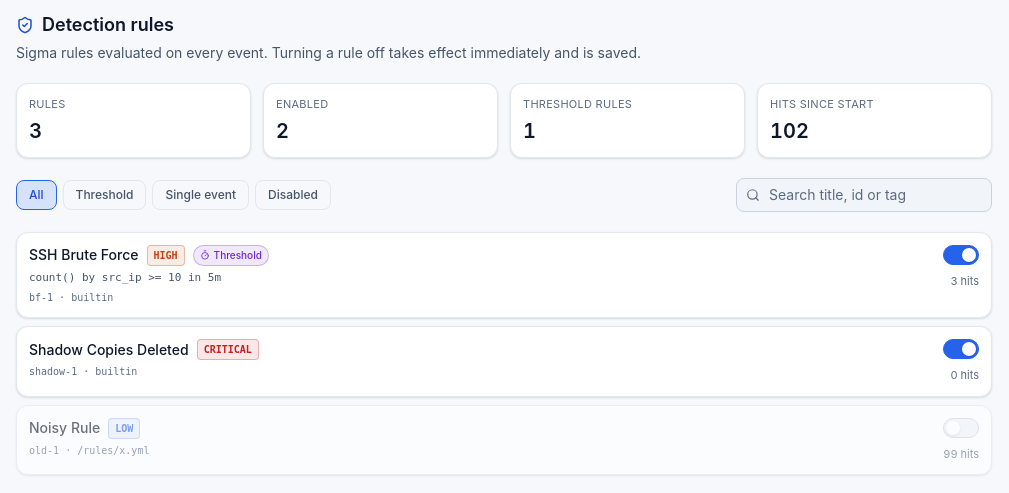
it: Rules page › filters by type and search text
Expected: the text "SSH Brute Force" is shown, [29,245,138,265]
Click the button "Disabled" at x=293, y=194, box [255,180,331,210]
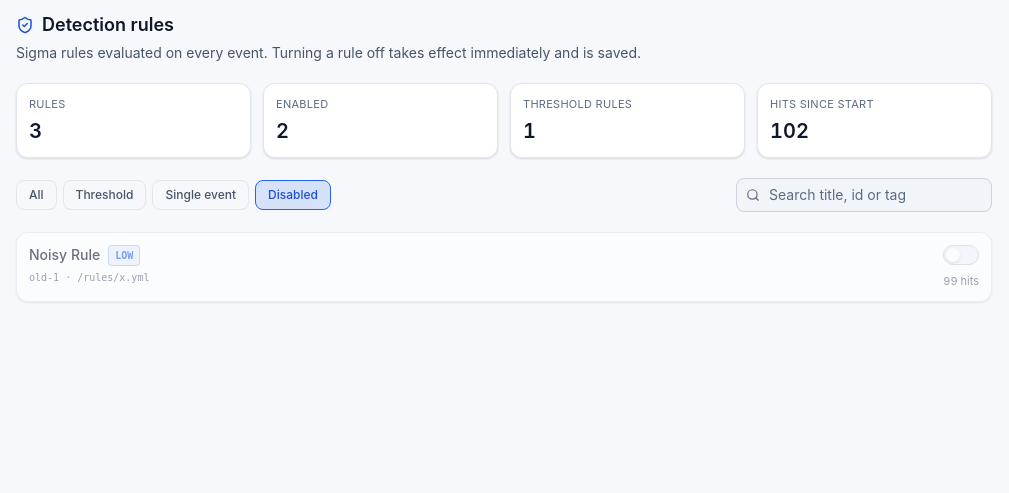
Expected: the text "Noisy Rule" is shown, [29,245,100,265]
Expected: the number of list items is 1, [16,232,992,302]
Click the button "All" at x=36, y=194, box [16,180,57,210]
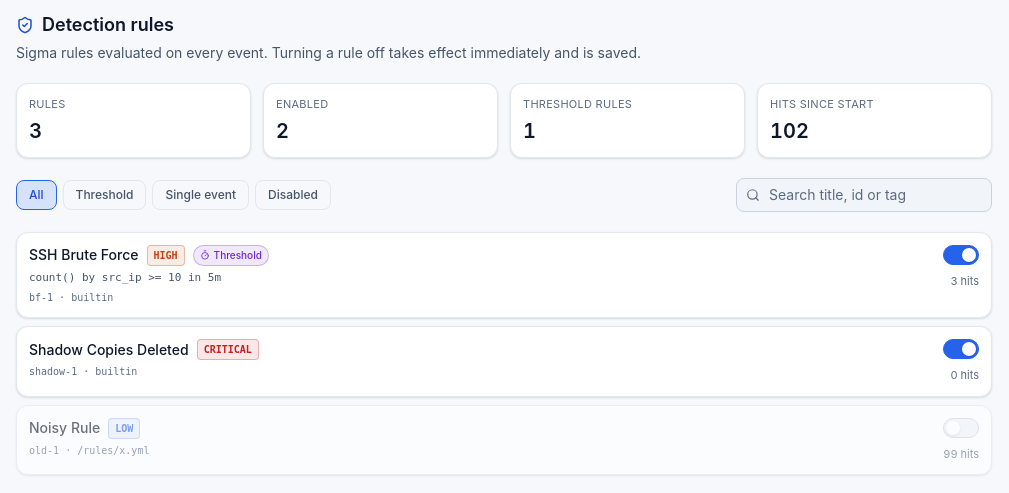
Type "t1110" into the field with placeholder "Search title, id or tag" at x=864, y=194, box [736,178,992,212]
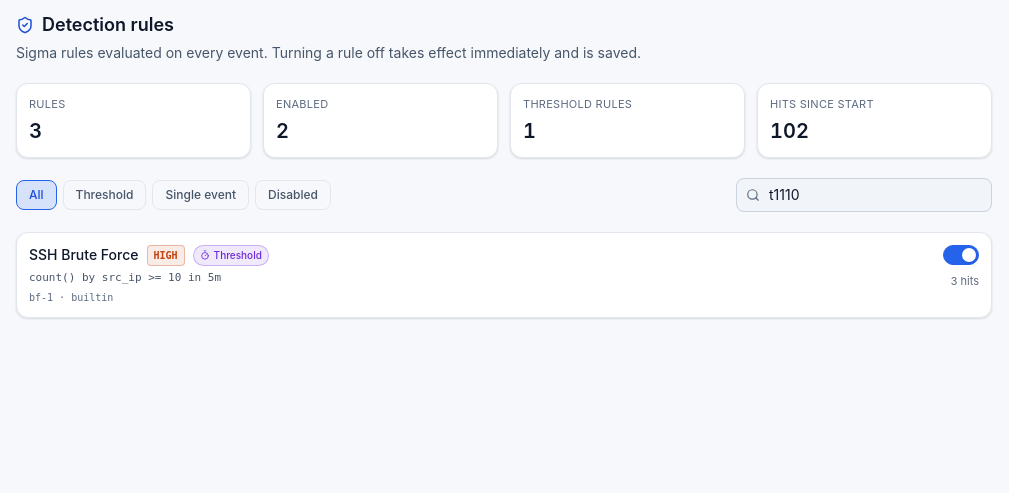
Expected: the number of list items is 1, [16,232,992,318]
